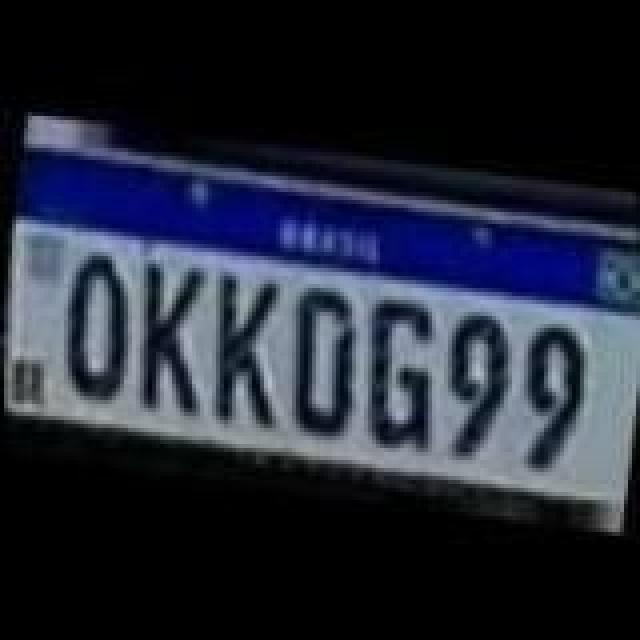9: (496, 314, 596, 478), (426, 298, 522, 462)
D: (276, 286, 368, 438)
G: (352, 288, 452, 448)
K: (116, 250, 220, 418), (192, 266, 288, 430)
O: (46, 242, 146, 398)
